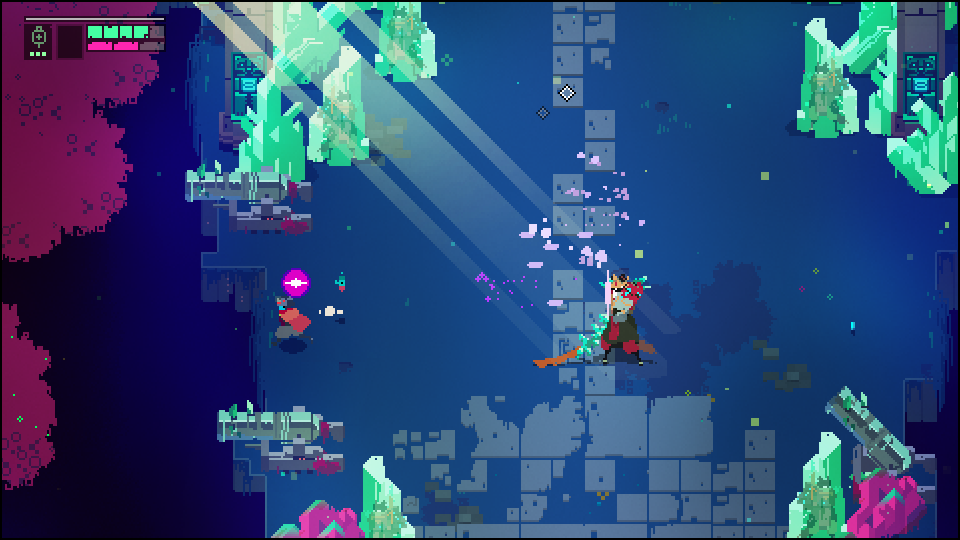hanged_man: (580, 271, 651, 369)
hanged_shot: (282, 266, 308, 298)
player: (269, 294, 310, 342)
